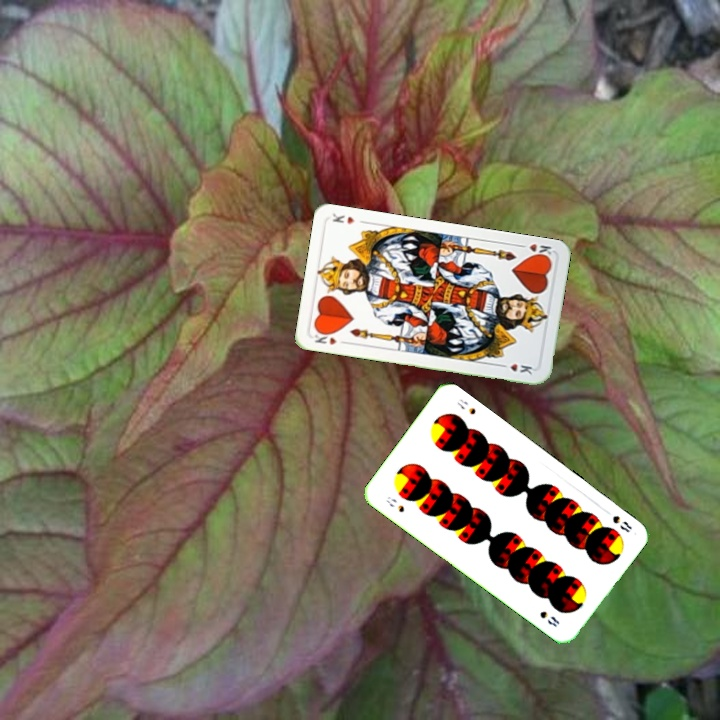HK: (311, 327, 350, 347), (525, 239, 554, 261)
S8: (608, 511, 634, 535), (382, 492, 407, 515)
